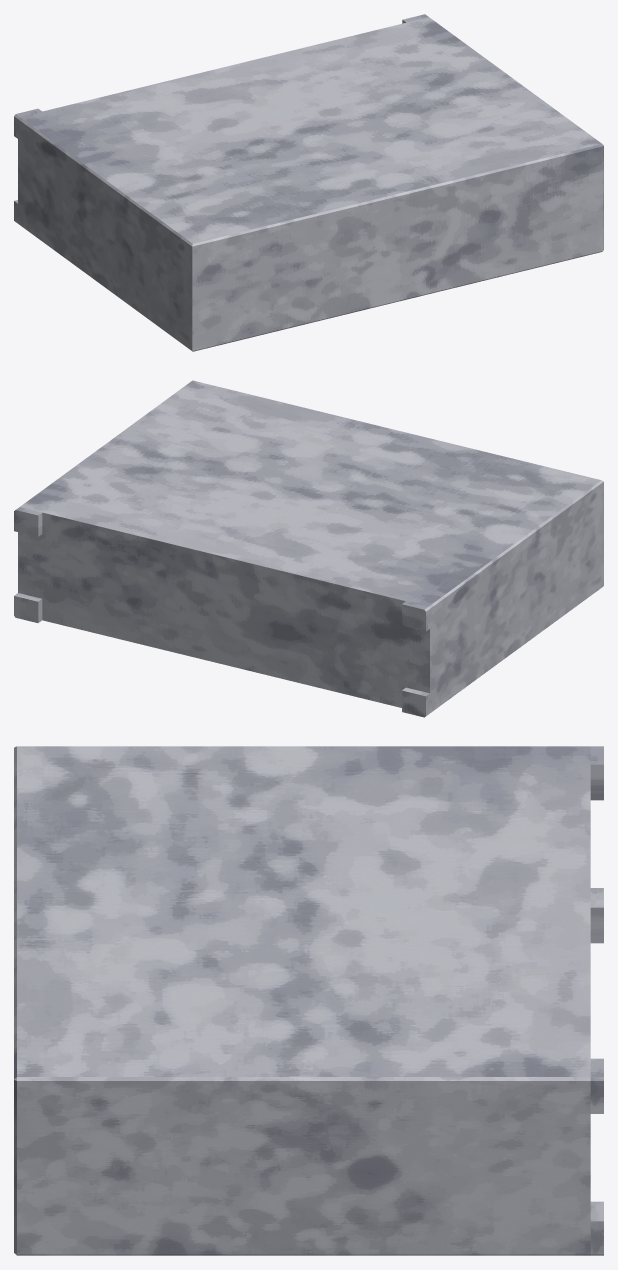
Rendered from 장애물_엎어진사물함.fbx.
3 renders of one model, top to bottom at view 1: azimuth 30°, elevation 25°; view 2: azimuth 150°, elevation 25°; view 3: azimuth 270°, elevation 25°, orthographic. The views are drawn at different scales.
Visible parts, largest first — view 1: 엎어진사물함; view 2: 엎어진사물함; view 3: 엎어진사물함.
Part boxes in pixels (left/top/right/bottom): 엎어진사물함: left=14, top=14, right=603, bottom=351; 엎어진사물함: left=14, top=380, right=603, bottom=717; 엎어진사물함: left=14, top=746, right=603, bottom=1255.
Bounding box in the file's own units: 200 × 50 × 150.
1 material, 1 textured.
